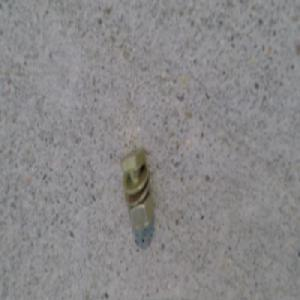BoltNutSet: (123, 146, 156, 228)
